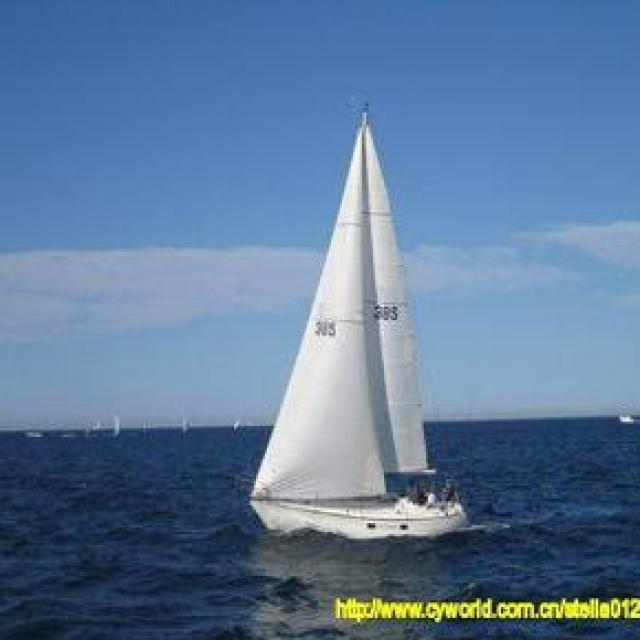sailboat: (241, 89, 464, 544)
